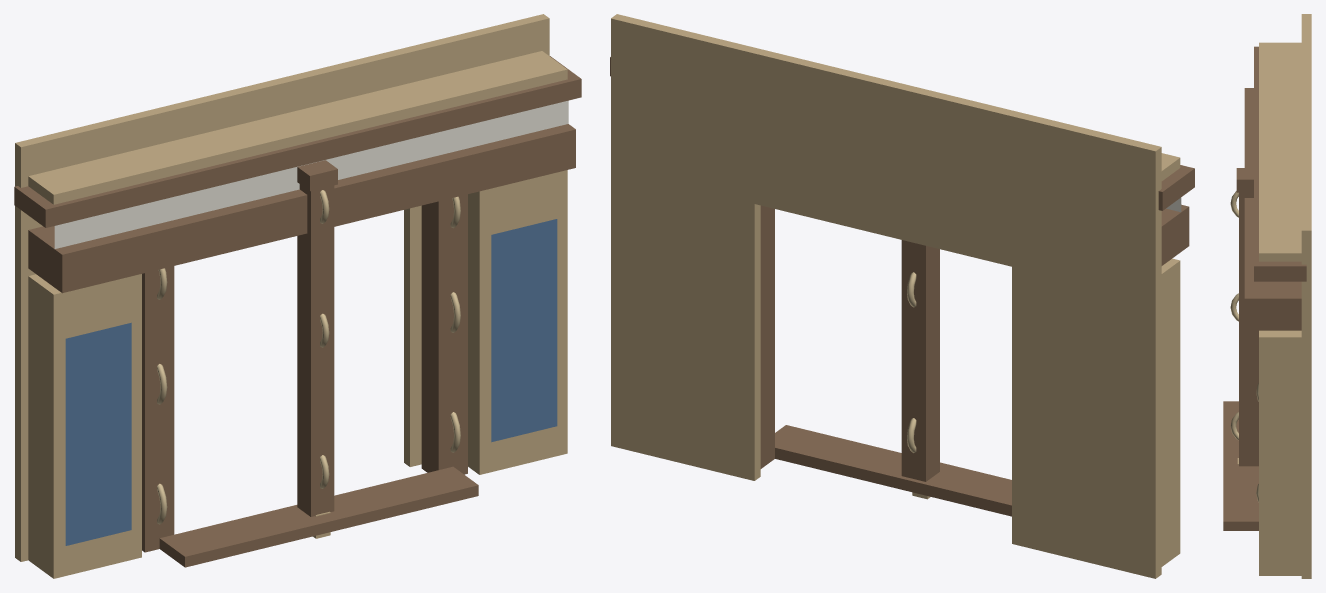
File: oceanic.glb
3 renders of one model, left to right at view 1: azimuth 30°, elevation 25°; view 2: azimuth 150°, elevation 25°; view 3: azimuth 270°, elevation 25°, orthographic. The views are drawn at different scales.
Parts seen in each view (by area): view 1: Timber_lintel, Weave_shoulder, Weave_field, Weave_shoulder.001, Star_screen, Star_screen.001, Timber_ridge, Timber_shaft.001, Shell_frieze, Timber_shaft.002, Weave_backL, Timber_threshold (+4 smaller); view 2: Weave_backL, Weave_backR, Weave_backHdr, Timber_shaft.002, Timber_threshold, Weave_shoulder, Timber_shaft.001, Timber_lintel, Timber_ridge; view 3: Weave_shoulder.001, Weave_field, Timber_lintel, Weave_backR, Timber_shaft.002, Timber_threshold, Timber_ridge, Weave_backHdr, Weave_backL, Timber_cap.002, Rope_lash.007, Rope_lash.006 (+1 smaller).
Boxes of the visible parts, <box> form: Timber_lintel: <box>28,124,575,293</box>; Weave_shoulder: <box>28,274,141,578</box>; Weave_field: <box>28,51,567,204</box>; Weave_shoulder.001: <box>468,170,567,474</box>; Star_screen: <box>65,322,131,545</box>; Star_screen.001: <box>491,219,557,442</box>; Timber_ridge: <box>14,56,581,227</box>; Timber_shaft.001: <box>421,194,467,474</box>; Shell_frieze: <box>54,100,568,248</box>; Timber_shaft.002: <box>297,164,334,516</box>; Weave_backL: <box>15,109,160,561</box>; Timber_threshold: <box>159,466,478,567</box>; Weave_backL: <box>1012,112,1161,578</box>; Weave_backR: <box>611,14,760,480</box>; Weave_backHdr: <box>754,49,1017,266</box>; Timber_shaft.002: <box>901,240,939,481</box>; Timber_threshold: <box>775,425,1011,516</box>; Weave_shoulder: <box>1161,258,1180,566</box>; Timber_shaft.001: <box>760,205,774,468</box>; Timber_lintel: <box>1161,204,1189,265</box>; Timber_ridge: <box>610,57,1194,210</box>; Weave_shoulder.001: <box>1259,330,1301,575</box>; Weave_field: <box>1259,42,1301,261</box>; Timber_lintel: <box>1244,88,1301,330</box>; Weave_backR: <box>1301,173,1311,578</box>; Timber_shaft.002: <box>1239,169,1258,466</box>; Timber_threshold: <box>1223,401,1258,530</box>; Timber_ridge: <box>1254,46,1306,281</box>; Weave_backHdr: <box>1301,71,1311,173</box>; Weave_backL: <box>1301,14,1311,70</box>; Timber_cap.002: <box>1236,168,1253,192</box>; Rope_lash.007: <box>1230,293,1238,321</box>; Rope_lash.006: <box>1230,412,1238,440</box>.
Size of the model in its own units: 7.3 by 5.55 by 1.24.
